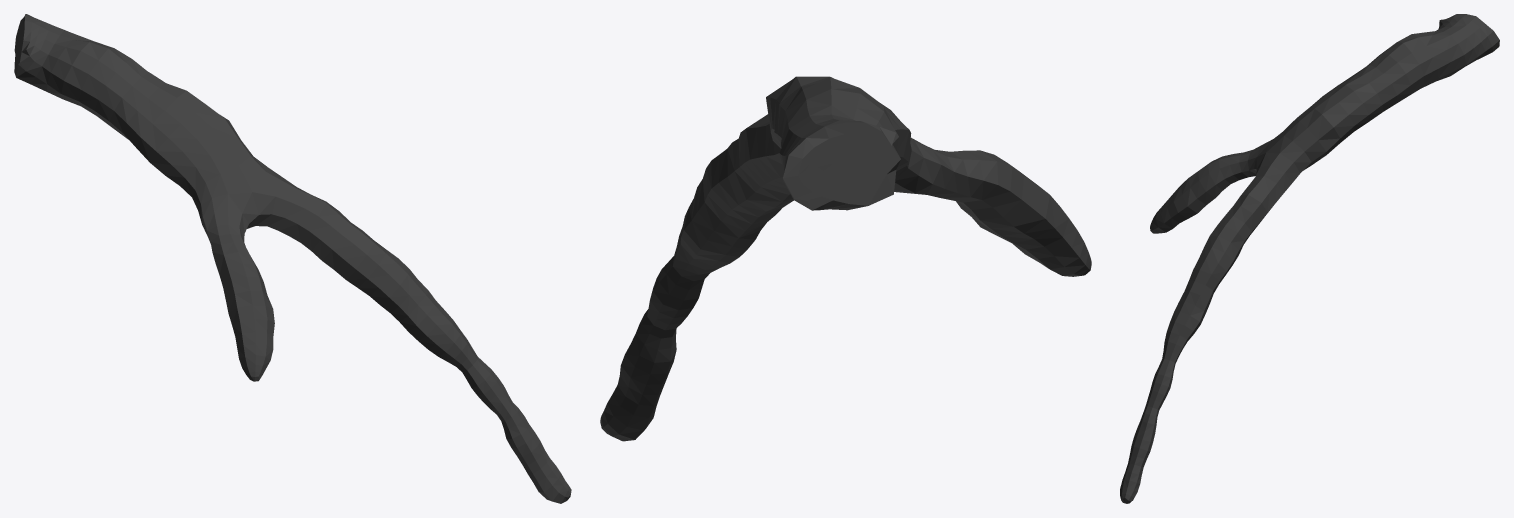
The model's file is Left_caudal_part_cranial_lobe_bronchus_1.glb.
3 views of the same model, side by side, from view 1: azimuth 30°, elevation 25°; view 2: azimuth 150°, elevation 25°; view 3: azimuth 270°, elevation 25° (orthographic). The views are drawn at different scales.
Parts seen in each view (by area): view 1: Left_caudal_part_cranial_lobe_bronchus_1; view 2: Left_caudal_part_cranial_lobe_bronchus_1; view 3: Left_caudal_part_cranial_lobe_bronchus_1.
Part boxes in pixels (x1,y1,x2,y2): Left_caudal_part_cranial_lobe_bronchus_1: [14, 14, 571, 503]; Left_caudal_part_cranial_lobe_bronchus_1: [600, 76, 1091, 441]; Left_caudal_part_cranial_lobe_bronchus_1: [1120, 14, 1499, 503].
Bounding box in the file's own units: 1.38 × 1.51 × 1.47.
Materials: 1 (1 with a texture image).
